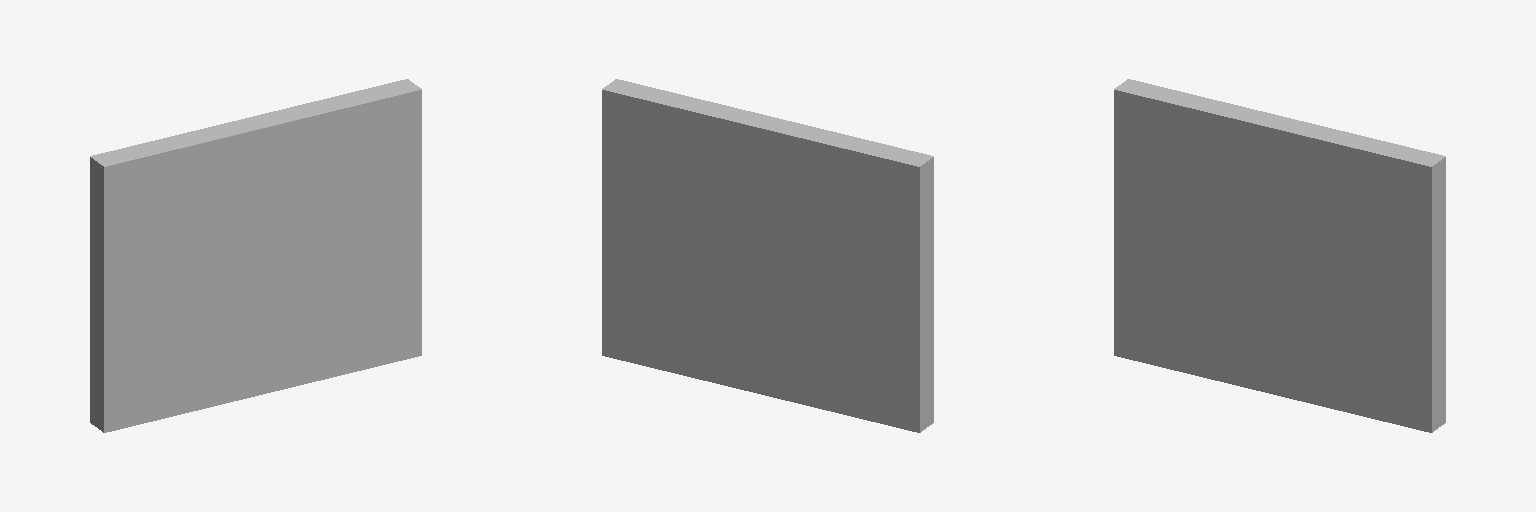
File: wall.obj
3 views of the same model, side by side, from view 1: azimuth 30°, elevation 25°; view 2: azimuth 150°, elevation 25°; view 3: azimuth 330°, elevation 25° (orthographic).
Bounding box in the file's own units: 50 × 40 × 4.